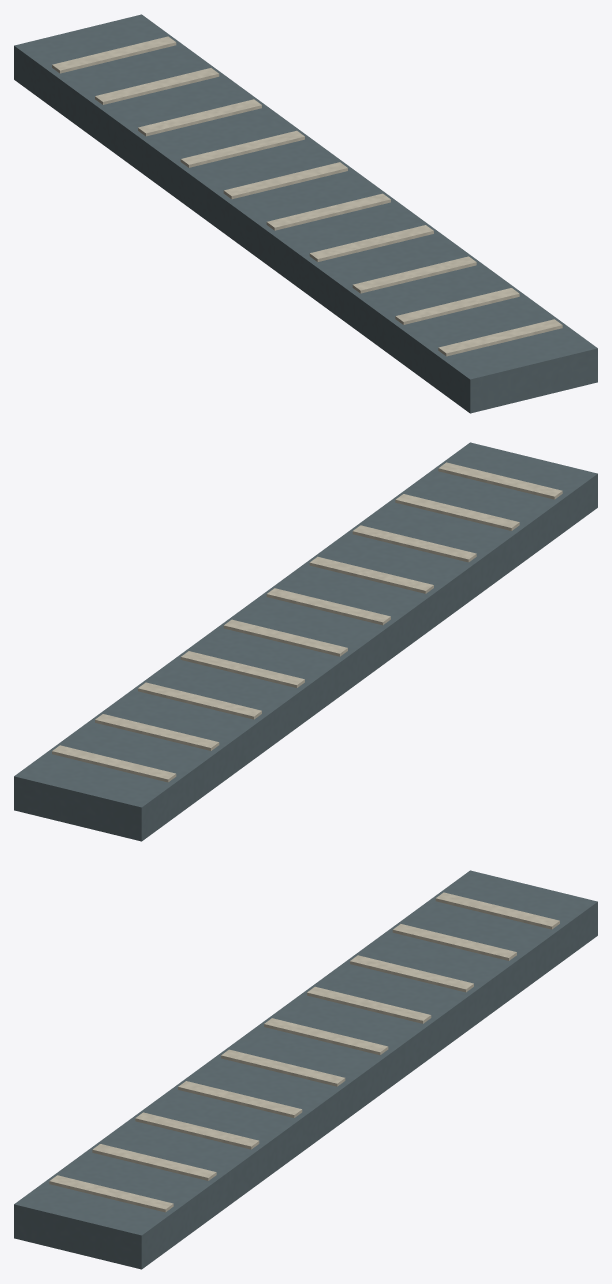
File: drain-channel.glb
3 renders of one model, top to bottom at view 1: azimuth 30°, elevation 25°; view 2: azimuth 150°, elevation 25°; view 3: azimuth 330°, elevation 25°, orthographic.
Bounding box in the file's own units: 0.55 × 0.1525 × 3.4.
Materials: 2 (2 with a texture image).
